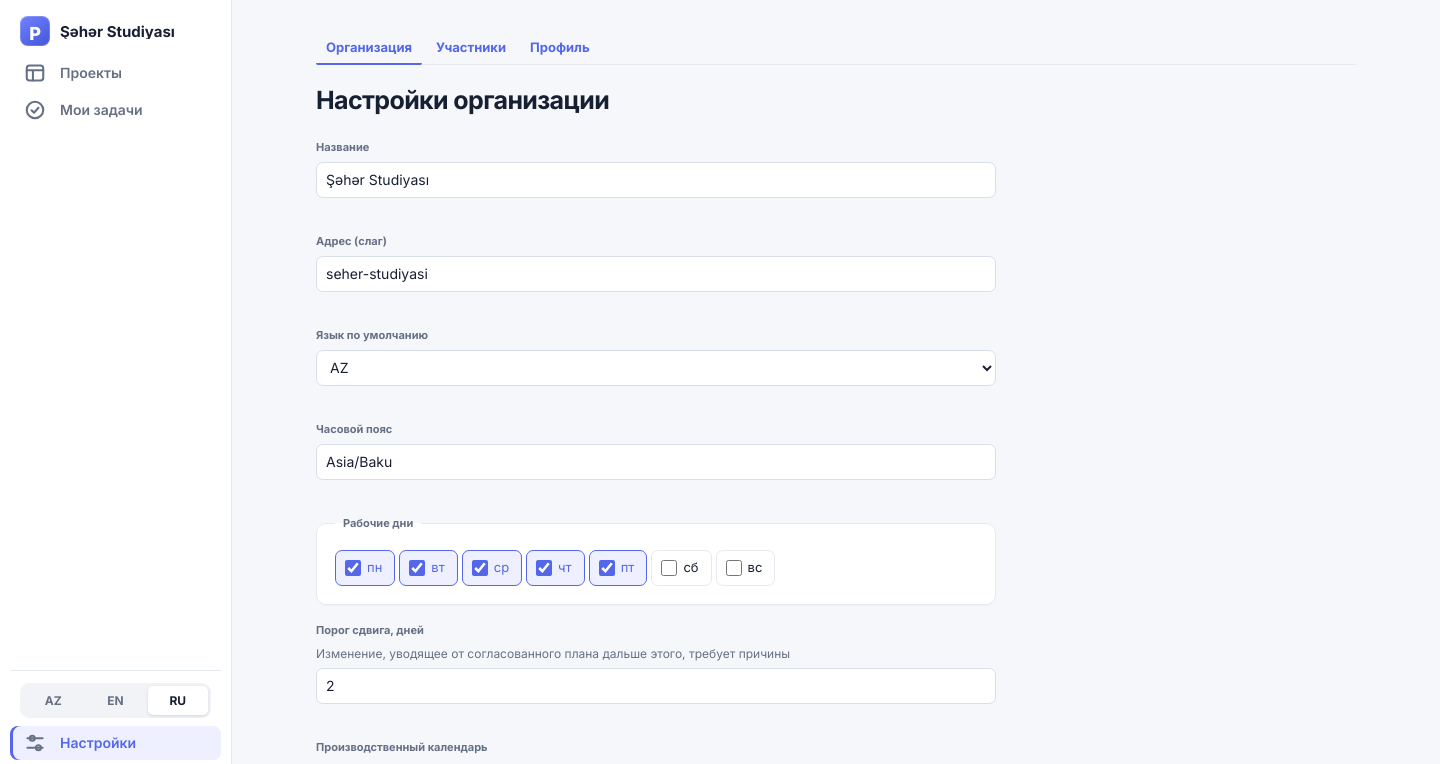
Test: настройки организации › сохранённое поле говорит об этом рядом с собой
Step 1. Replace the text in the field labelled "Часовой пояс" with "Europe/Berlin" → (656,462), box [316,444,996,480]
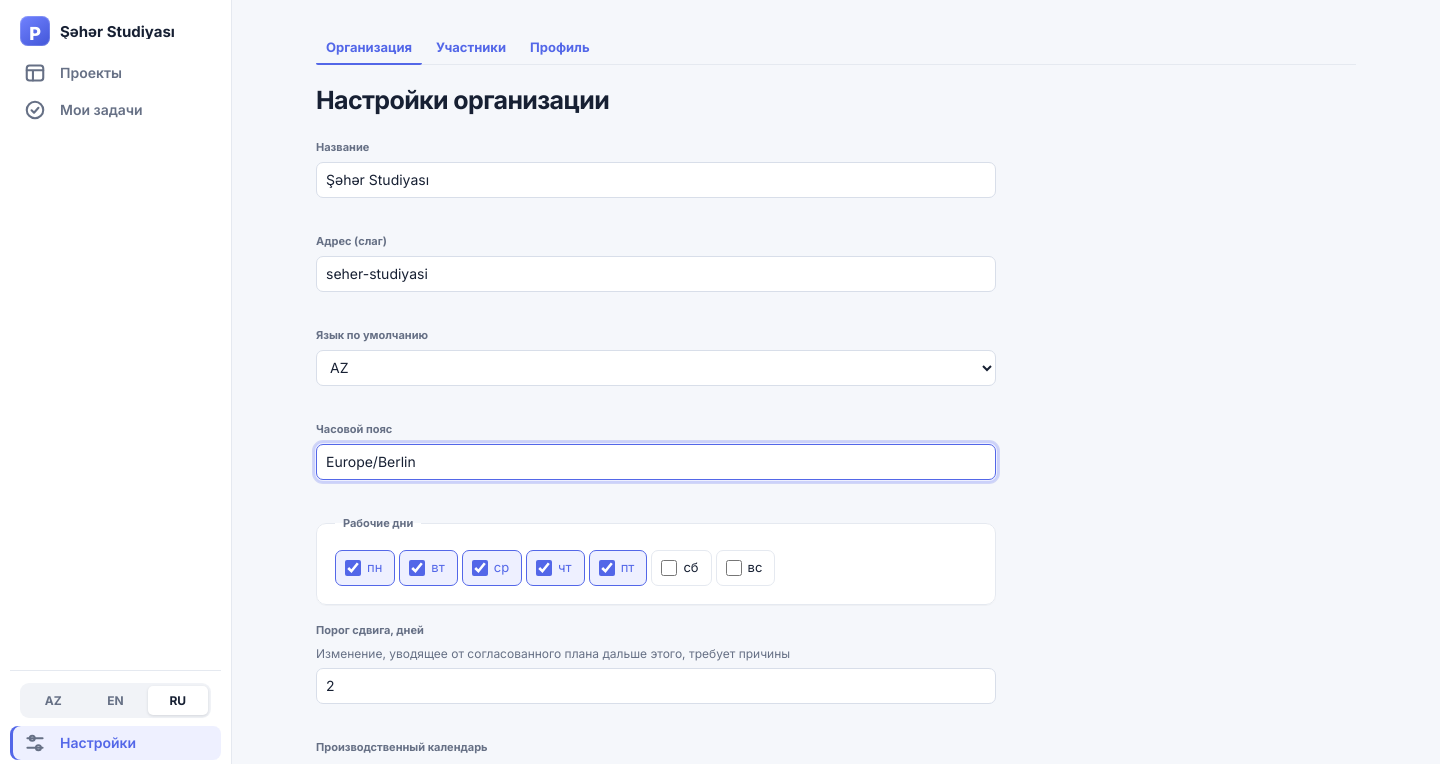
Step 2. Press Tab
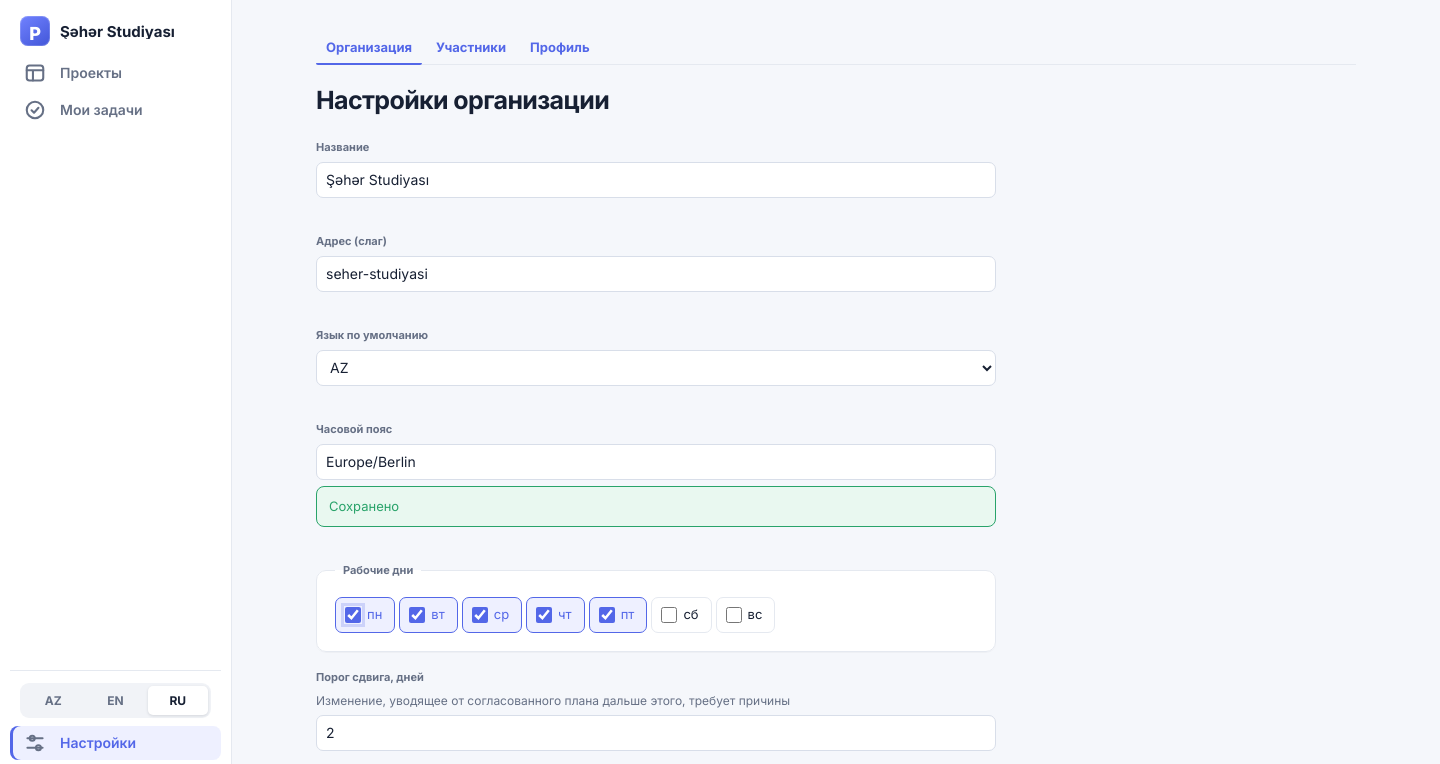
Now the text "Сохранено" is shown, box [316,486,996,527]
